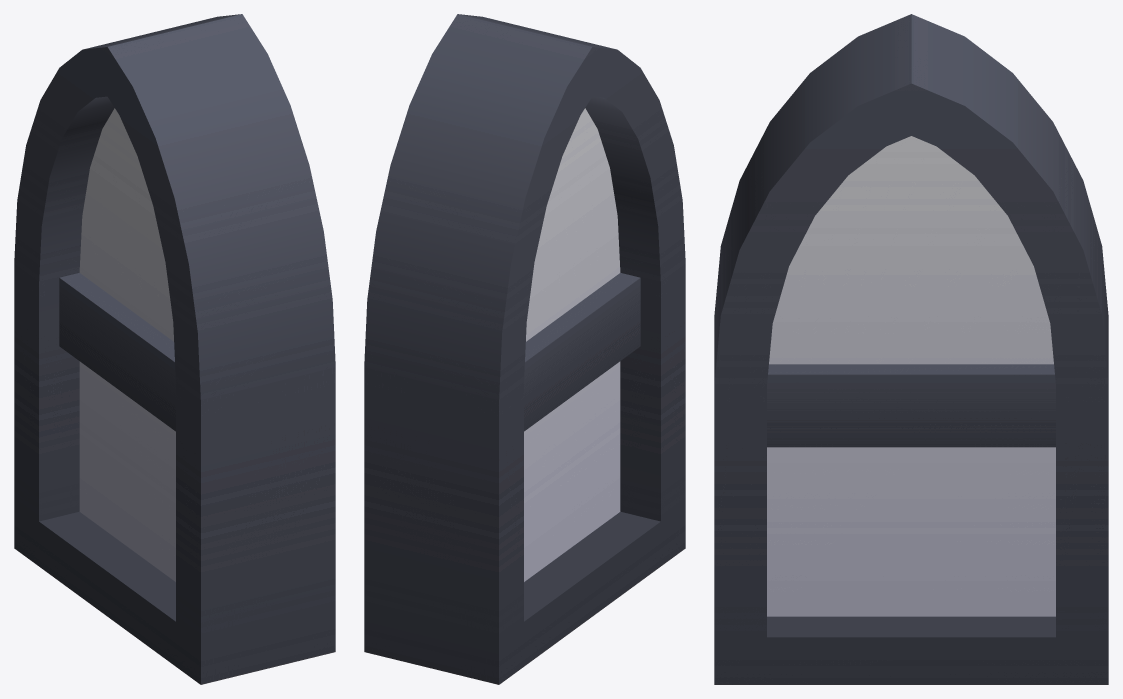
The model's file is door.glb.
The picture shows the model from 3 angles, left to right: view 1: azimuth 30°, elevation 25°; view 2: azimuth 150°, elevation 25°; view 3: azimuth 270°, elevation 25°; orthographic projection. The views are drawn at different scales.
Visible parts, largest first — view 1: door; view 2: door; view 3: door.
Boxes of the visible parts, x1,y1,x2,y2 form: door: [14, 14, 335, 684]; door: [364, 14, 685, 684]; door: [714, 14, 1108, 684].
Size of the model in its own units: 0.45 by 1.82 by 1.08.
1 material, 1 textured.
